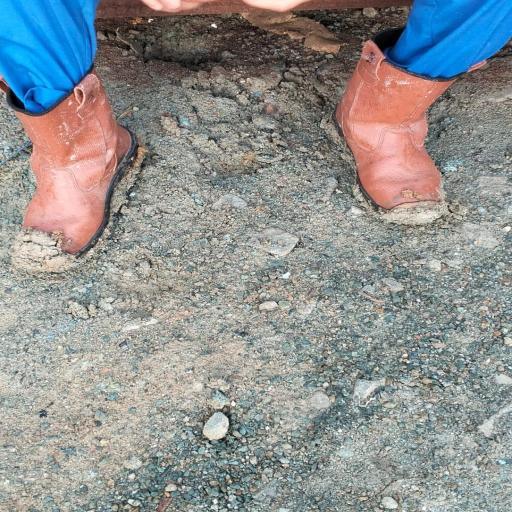safety_shoe: (3, 90, 168, 251), (332, 40, 455, 224)
